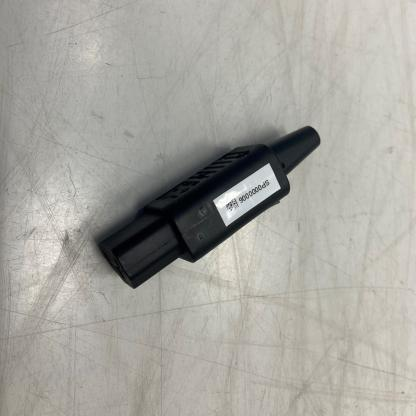SP0000006: (48, 62, 380, 329)
